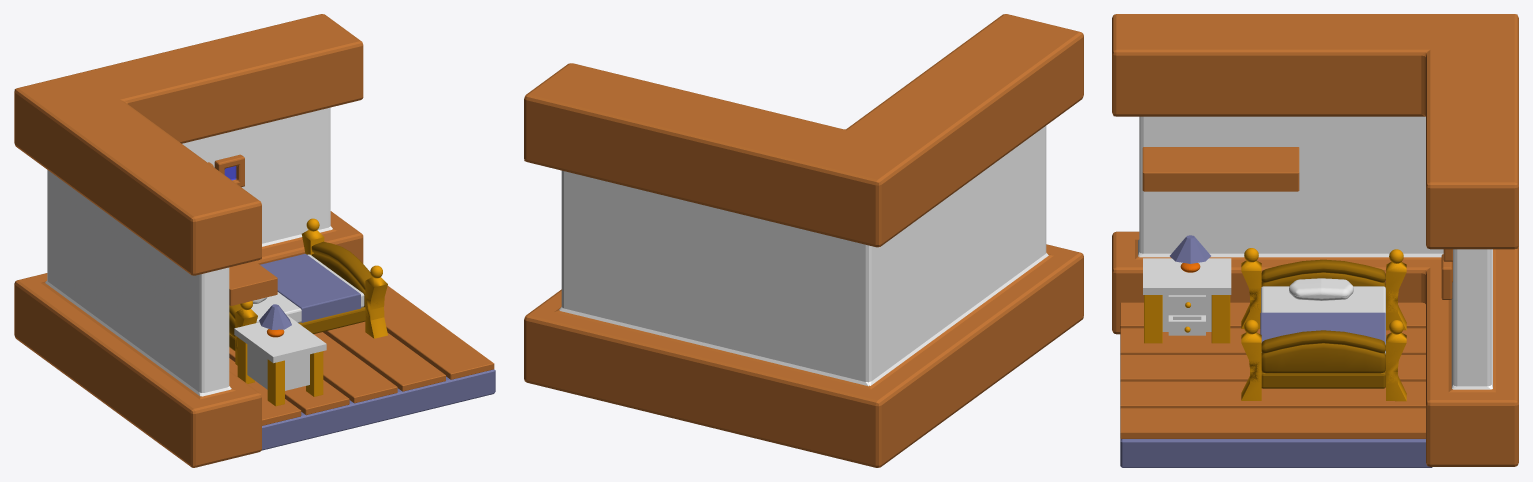
3 renders of one model, left to right at view 1: azimuth 30°, elevation 25°; view 2: azimuth 150°, elevation 25°; view 3: azimuth 270°, elevation 25°, orthographic. The views are drawn at different scales.
Visible parts, largest first — view 1: Cube, Plane.001, Plane, Plane.010, Plane.012, Plane.013, Cube.002, Plane.004, Plane.005, Plane.002, Plane.009, Sphere (+3 smaller); view 2: Cube; view 3: Cube, Plane.001, Plane, Cube.002, Plane.004, Plane.012, Plane.010, Plane.009, Plane.003, Plane.002, Plane.013, Plane.008 (+6 smaller).
Part boxes in pixels (x1,y1,x2,y2): Cube: (14, 14, 363, 467); Plane.001: (229, 286, 494, 425); Plane: (261, 369, 495, 450); Plane.010: (260, 253, 360, 322); Plane.012: (234, 315, 326, 390); Plane.013: (237, 337, 323, 406); Cube.002: (229, 261, 277, 305); Plane.004: (311, 241, 371, 306); Plane.005: (365, 265, 387, 338); Plane.002: (229, 307, 365, 350); Plane.009: (251, 254, 364, 322); Sphere: (259, 304, 291, 337); Cube: (524, 14, 1083, 467); Cube: (1112, 14, 1518, 466); Plane.001: (1120, 302, 1425, 438); Plane: (1120, 439, 1432, 467); Cube.002: (1142, 147, 1299, 191); Plane.004: (1261, 330, 1385, 373); Plane.012: (1143, 258, 1231, 335); Plane.010: (1260, 312, 1385, 343); Plane.009: (1261, 286, 1385, 354); Plane.003: (1261, 259, 1385, 287); Plane.002: (1261, 369, 1385, 388); Plane.013: (1144, 295, 1230, 343); Plane.008: (1386, 320, 1406, 401).
Size of what is drawn, in the model's own units: 2.59 by 2.02 by 2.59.
